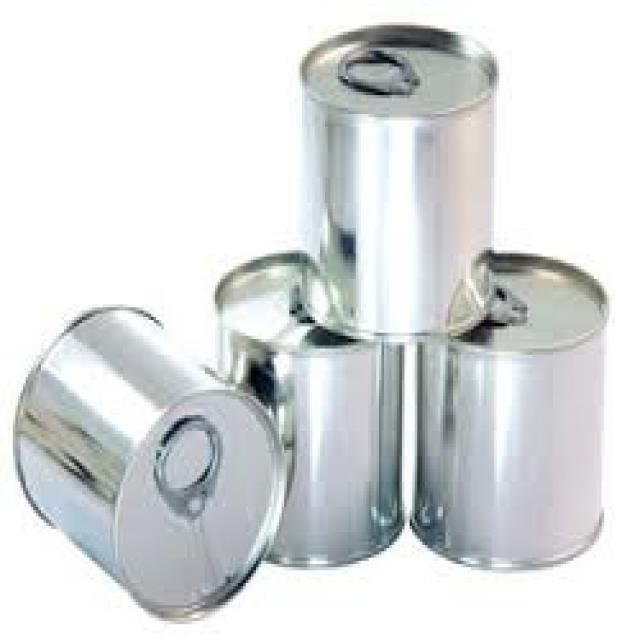recyclable: (12, 305, 284, 625), (298, 22, 500, 346), (411, 246, 608, 574), (210, 247, 408, 572)
